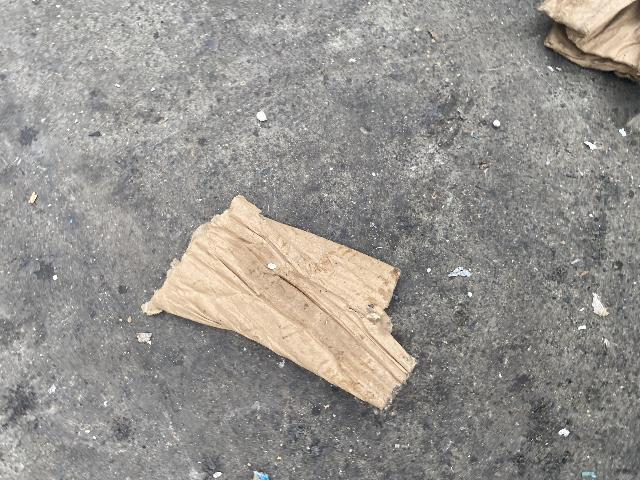Kagit: (130, 163, 437, 414), (532, 0, 640, 92)
